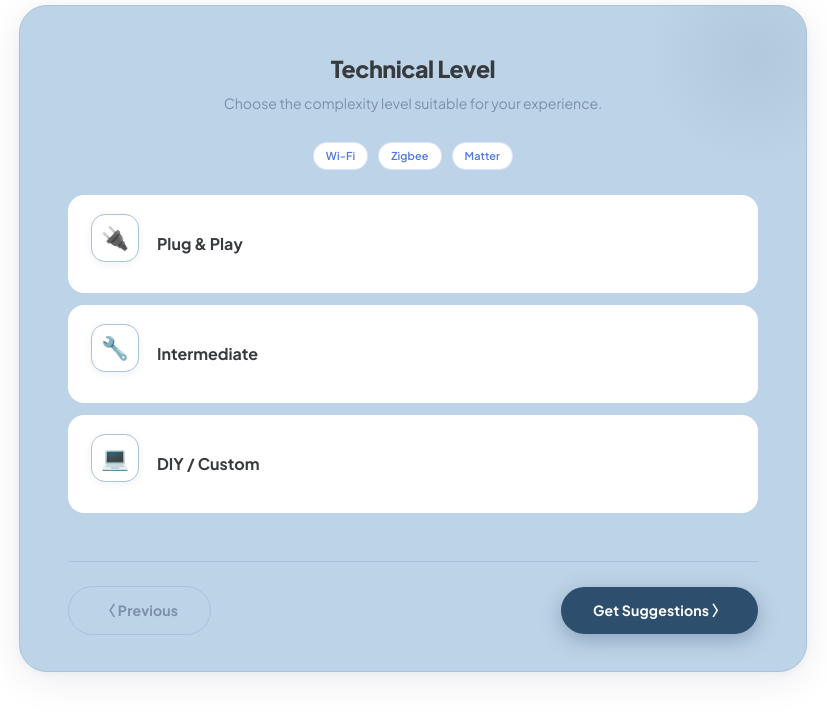
Test: SetupWizard › SuggestedProductsView › renders recommended devices heading
(page scrolled)
Click the button "Get Suggestions 〉".
click(659, 610)  # box [561,587,758,634]
(page scrolled)
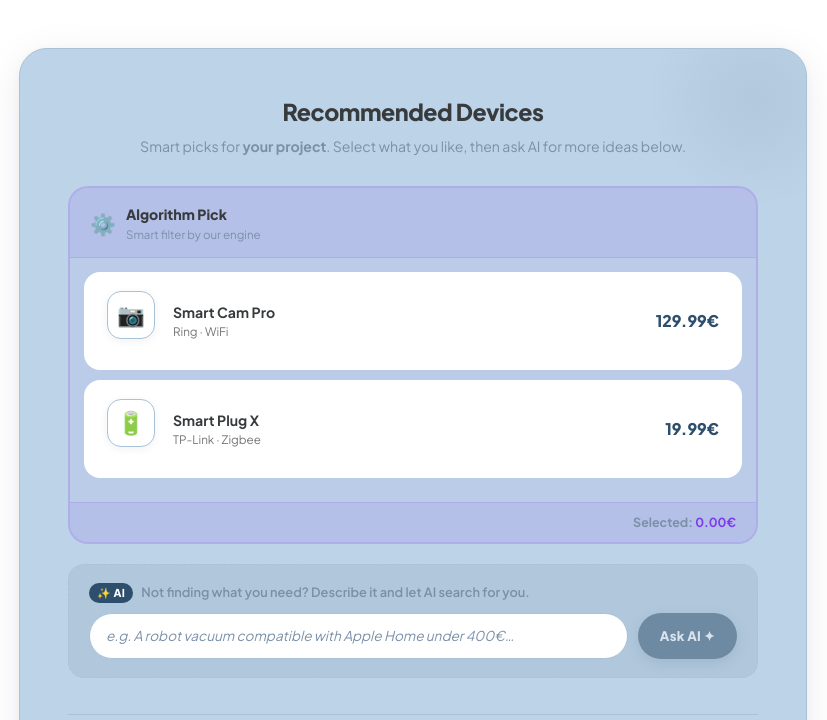
Expected: the heading "Recommended Devices" is shown, [282,97,544,126]
